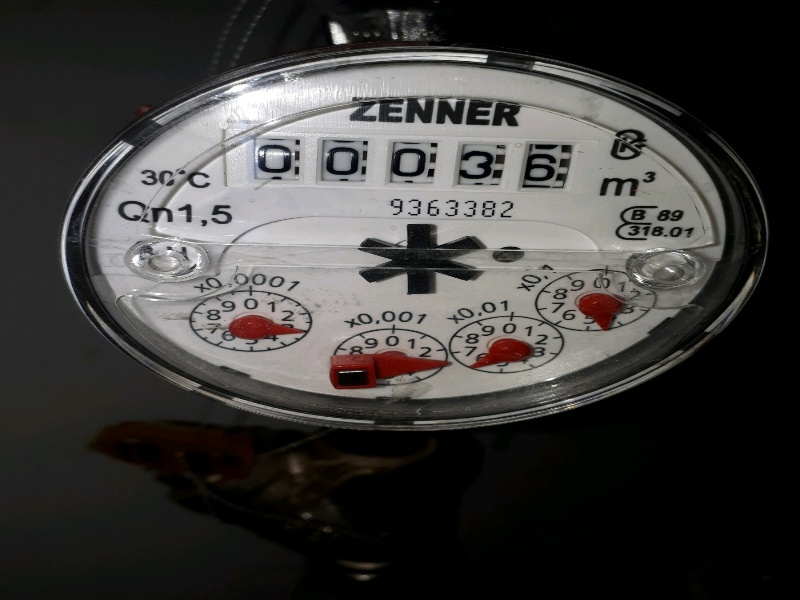meter: (236, 119, 573, 202)
